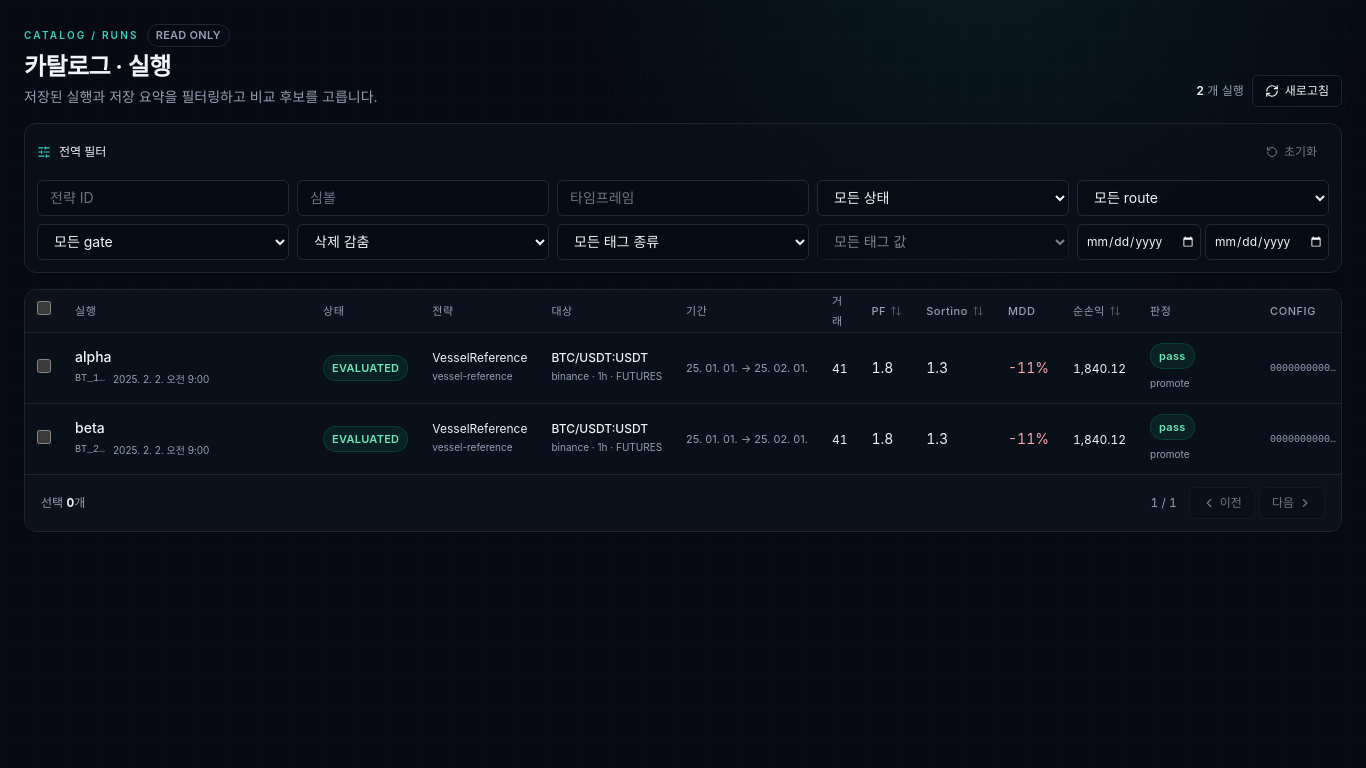
Test: 카탈로그 실행 삭제 표시 › 여러 건을 골라 한 번에 삭제한다
This screenshot has width=1366, height=768.
Expected: the text "alpha" is shown, [75, 346, 112, 366]
Click the checkbox named "alpha 선택" at x=44, y=366, box [37, 358, 51, 372]
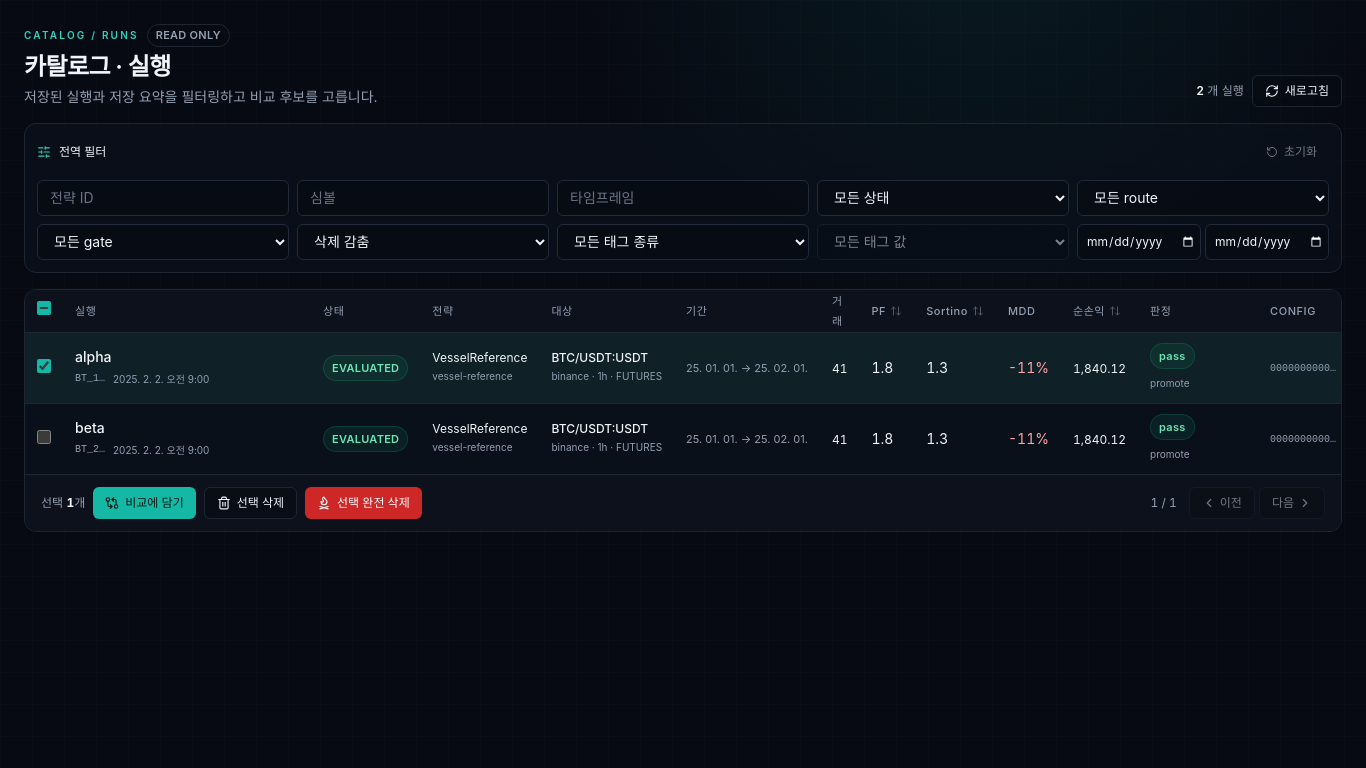
Click the checkbox named "beta 선택" at x=44, y=436, box [37, 430, 51, 444]
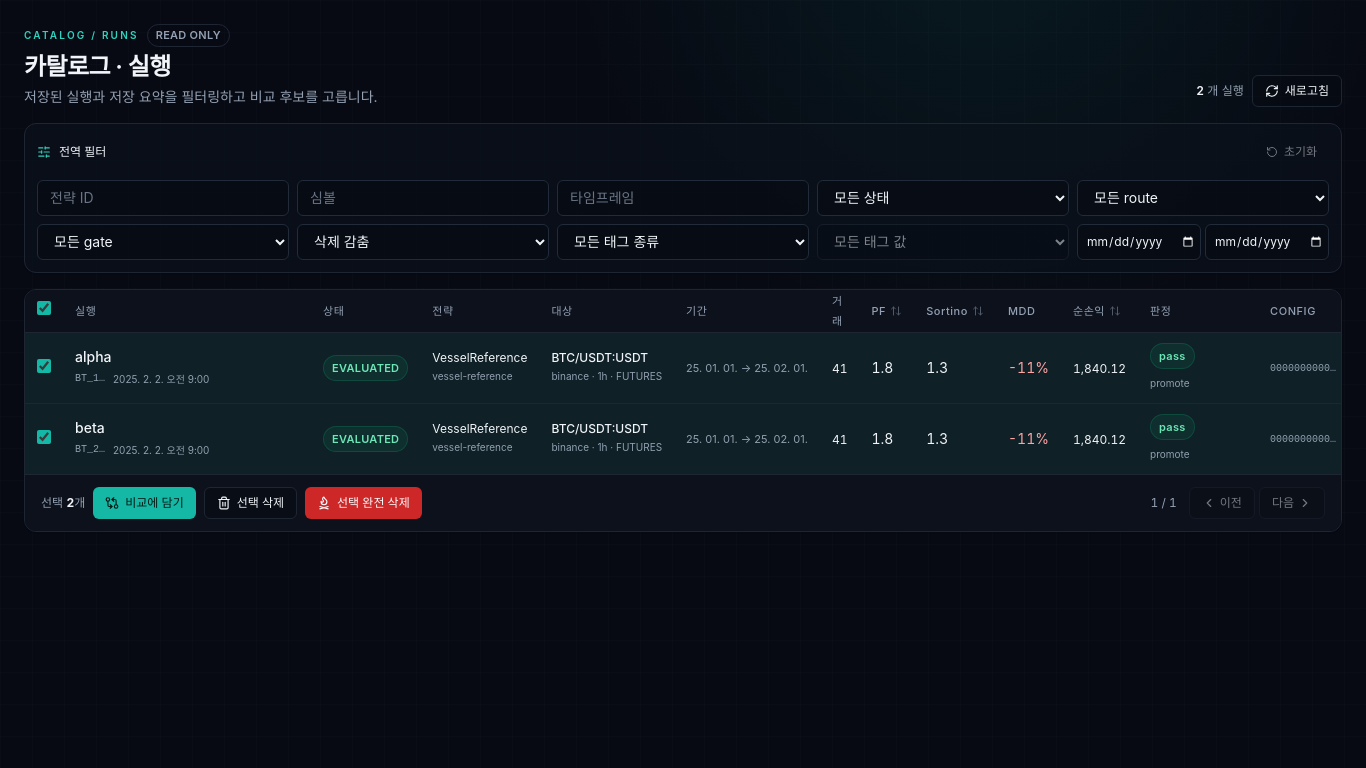
Click the button "선택 삭제" at x=250, y=502, box [204, 486, 297, 518]
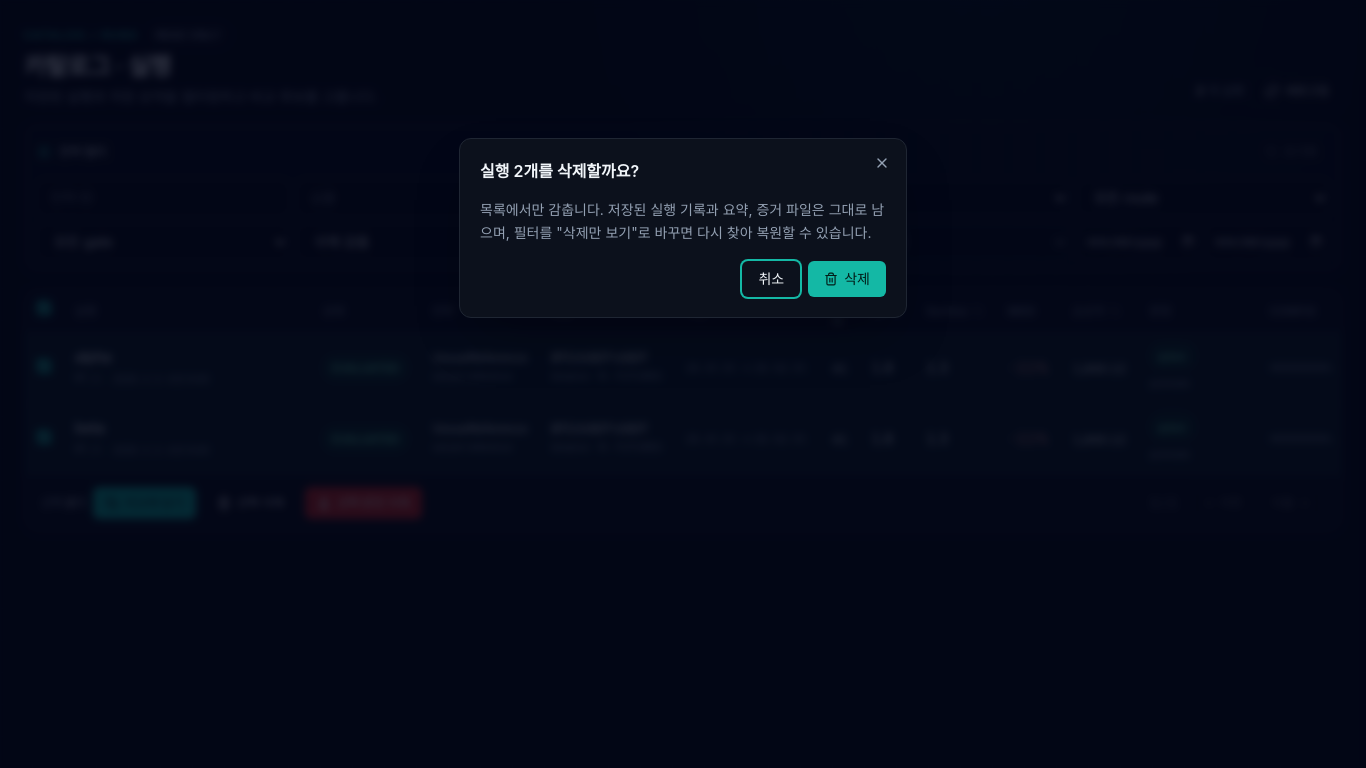
Now the heading "실행 2개를 삭제할까요?" is shown, box [480, 161, 639, 181]
Click the button "삭제" at x=847, y=279, box [808, 261, 886, 297]
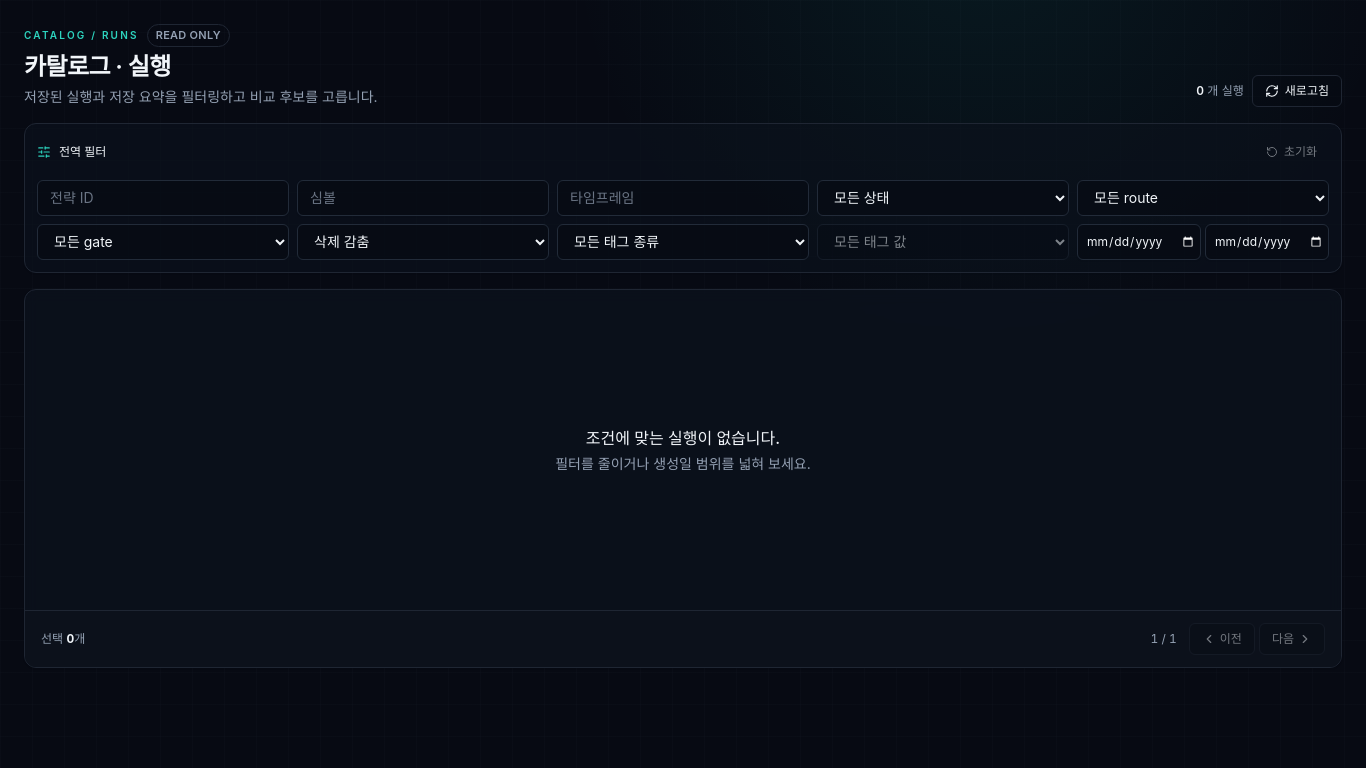
Now the text "조건에 맞는 실행이 없습니다." is shown, box [586, 428, 780, 448]
